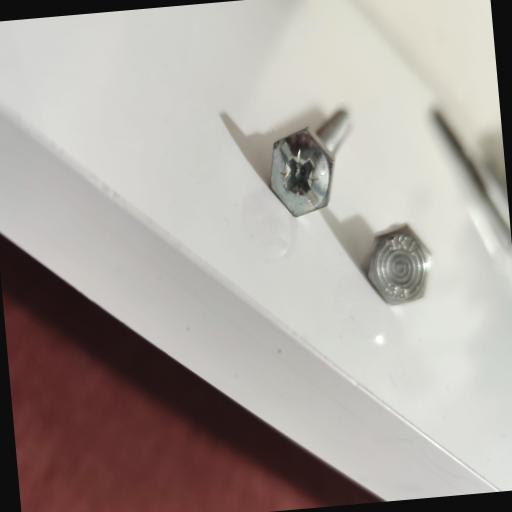Hex-Allen: (359, 220, 436, 310)
Pozidriv: (261, 120, 346, 224)
